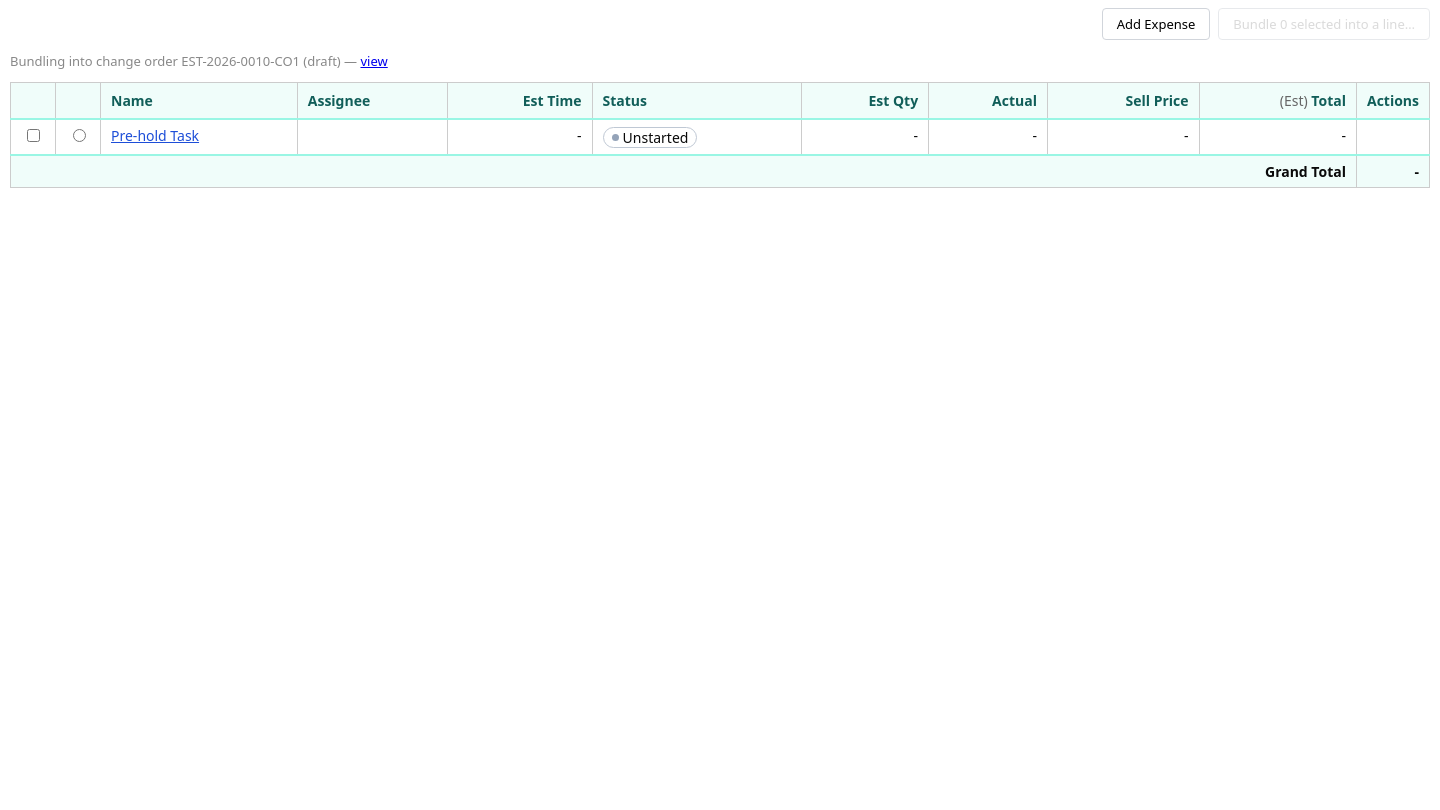
TasksPanel — estimate context (Task 2) › Tasks-page CO lens (state D) and the held-job hint › State D: bundling posts to the CO apiBase, refetches, and shows the CO success message
Expected: the button "Bundle 0 selected into a line…" is shown, top-left (1218, 8), bottom-right (1430, 40)
Click the checkbox. click: (34, 136)
box: top-left (27, 129), bottom-right (40, 142)
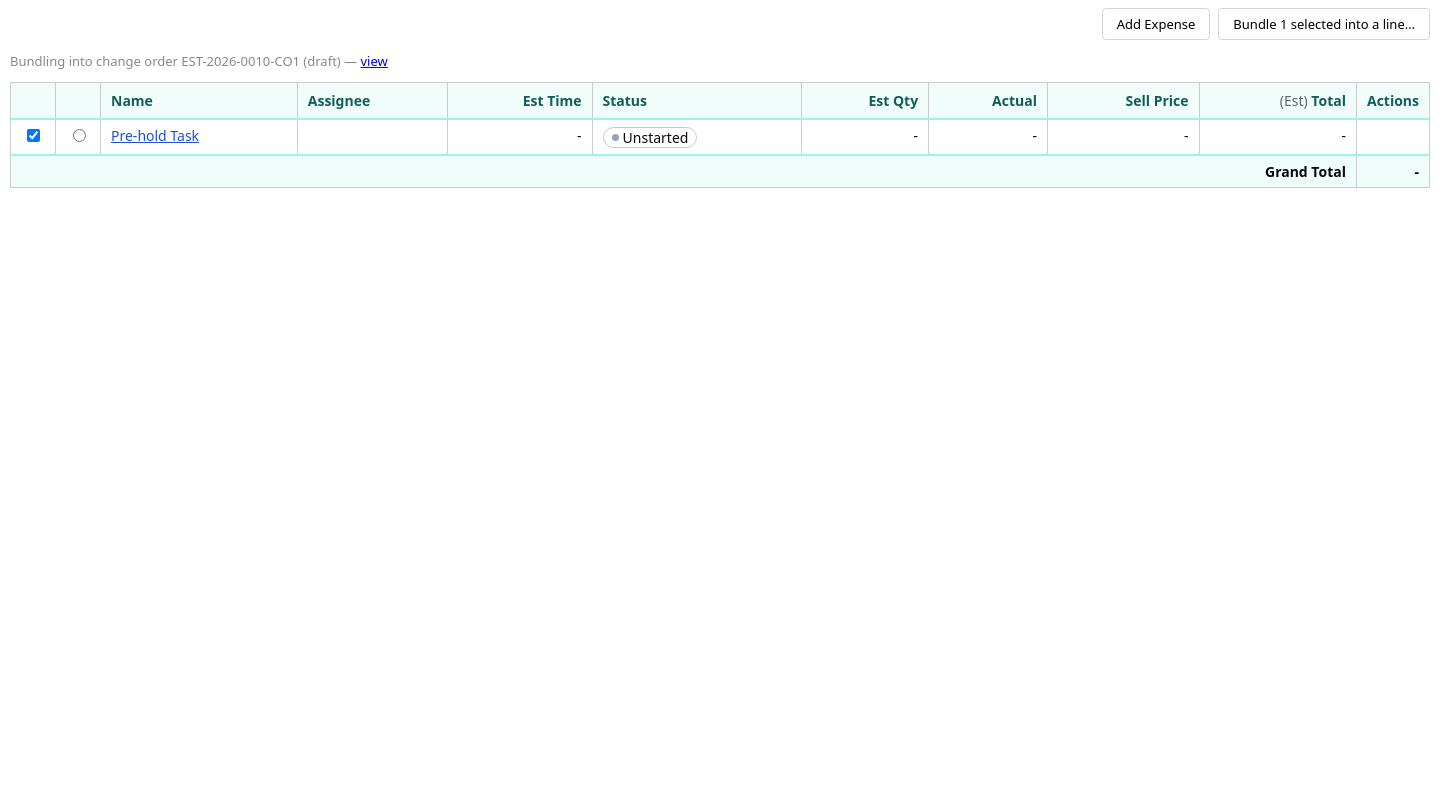
Click the button "Bundle 1 selected into a line…". click: (1324, 24)
box: top-left (1218, 8), bottom-right (1430, 40)
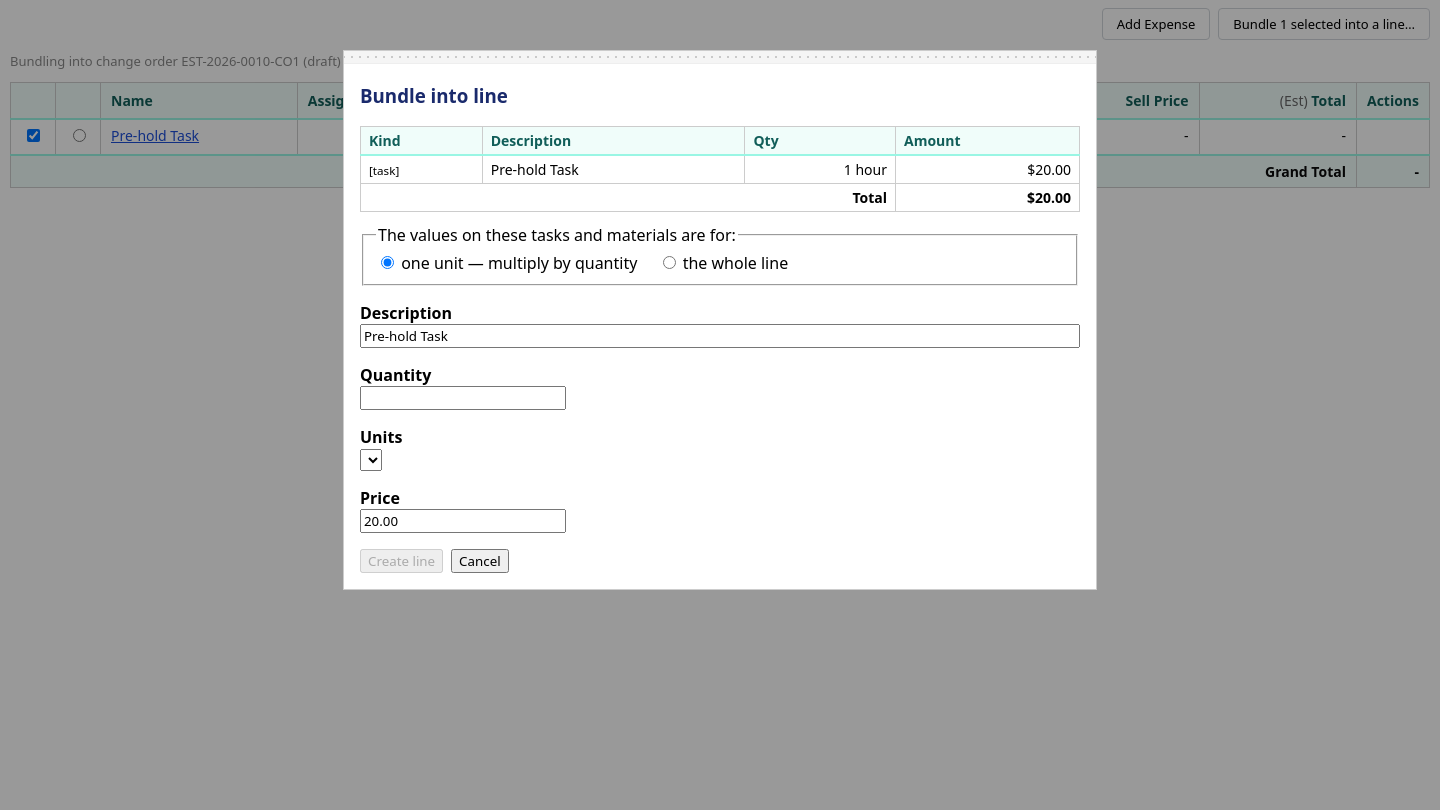
Type "1" into the number field labelled "Quantity". click: (463, 398)
box: top-left (360, 386), bottom-right (566, 410)
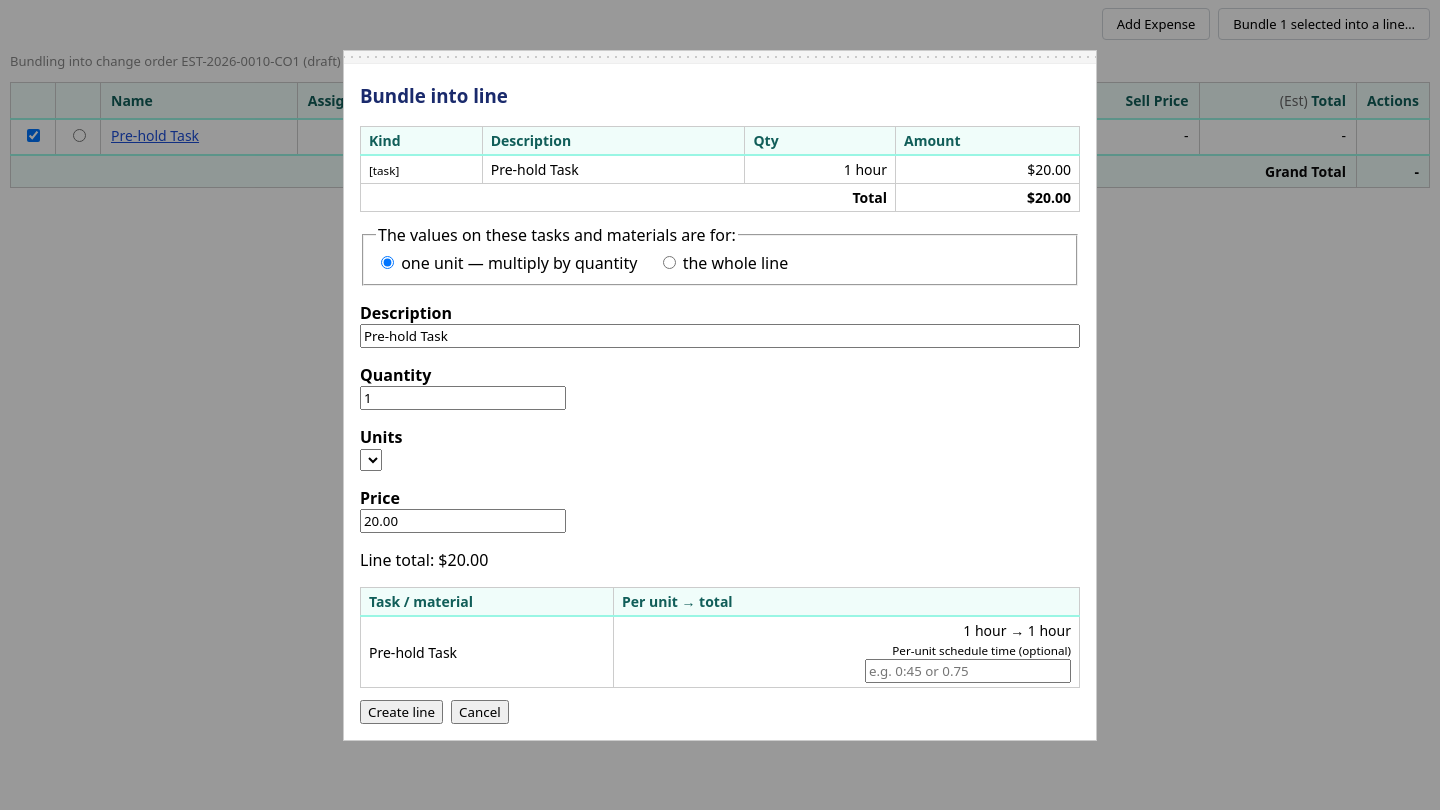
Click the button "Create line". click: (402, 712)
box: top-left (360, 700), bottom-right (443, 724)
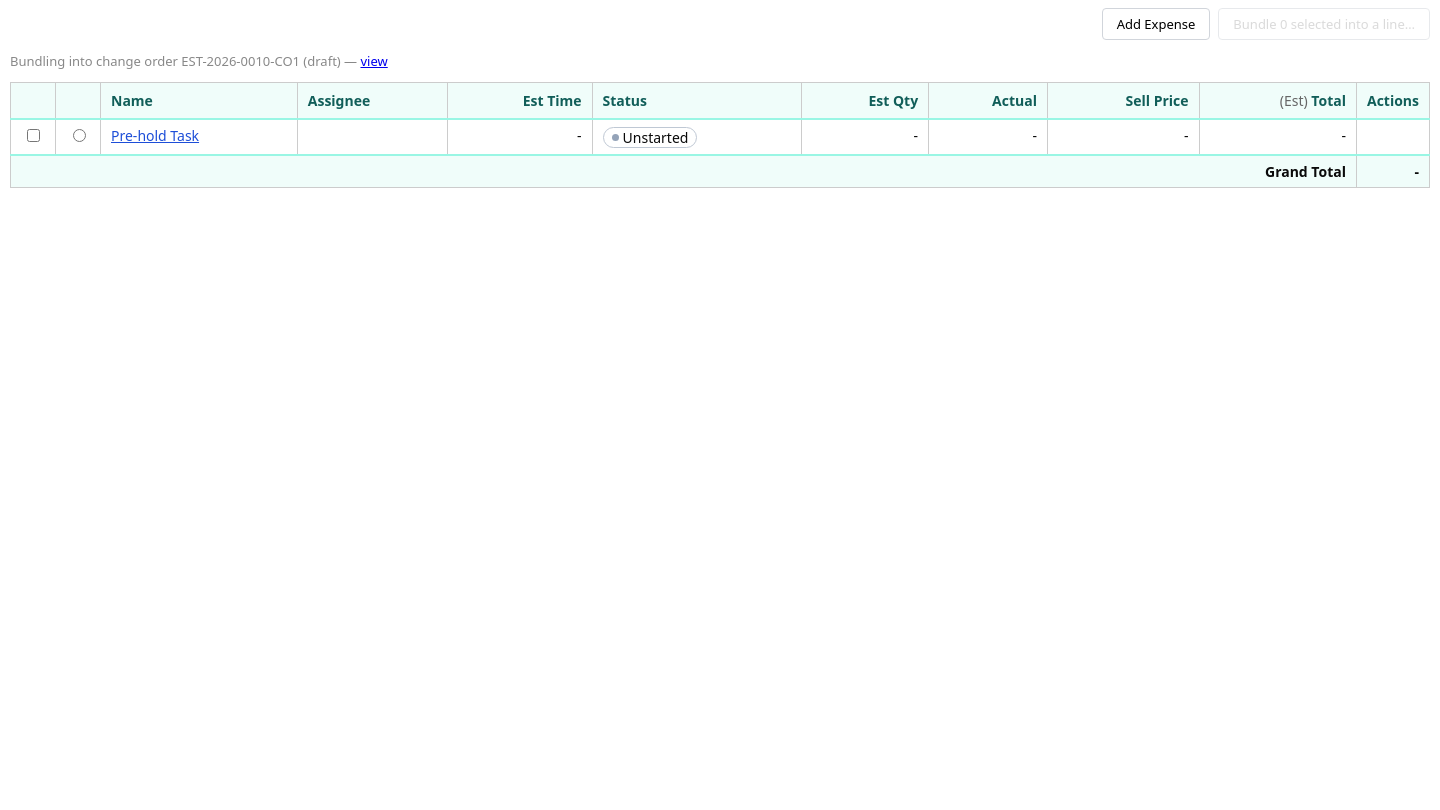
Expected: the dialog is gone
